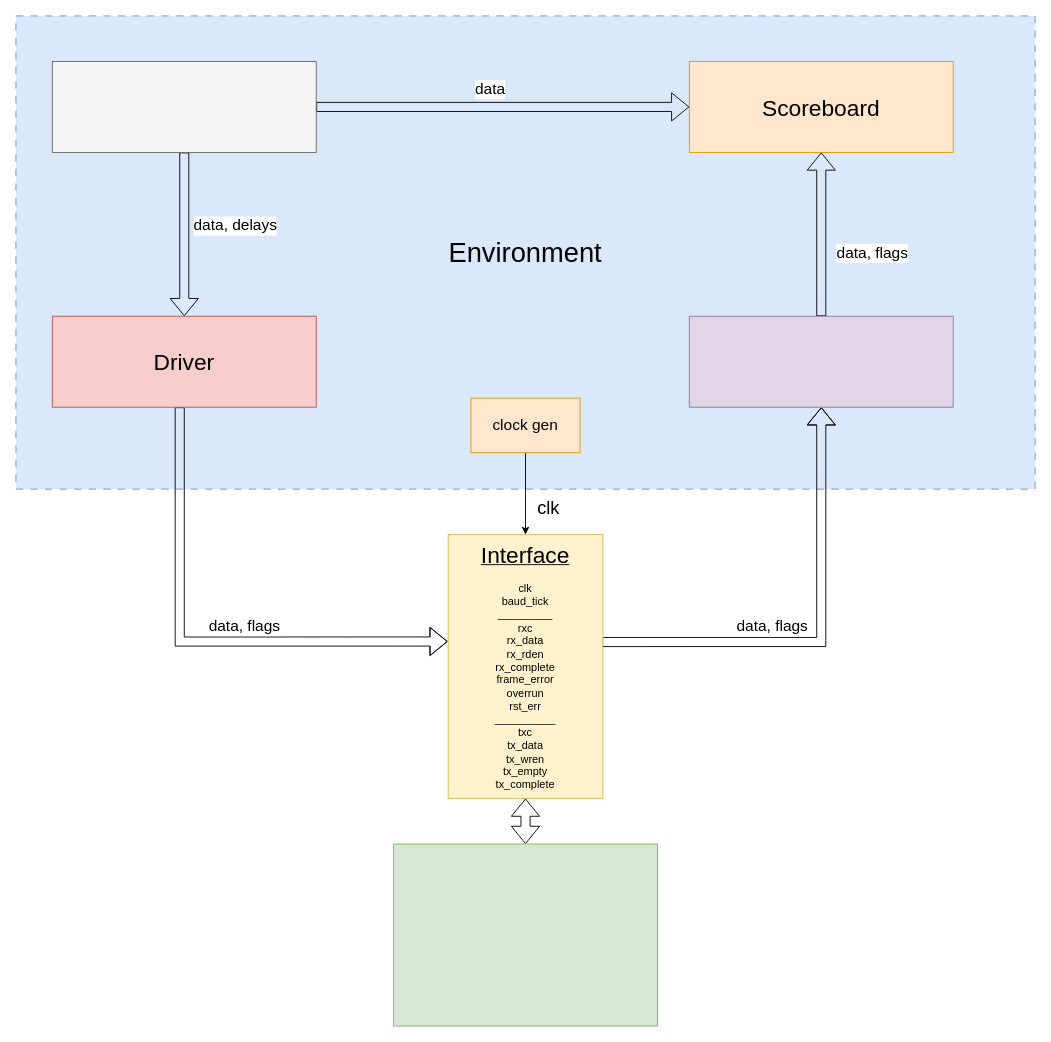
This 1051x1042 diagram has some shape labels left out. The centre of each missing label's shape, as x and y in pixels:
Generator: the point at 183,106
Monitor: the point at 820,361
uart: the point at 525,934
